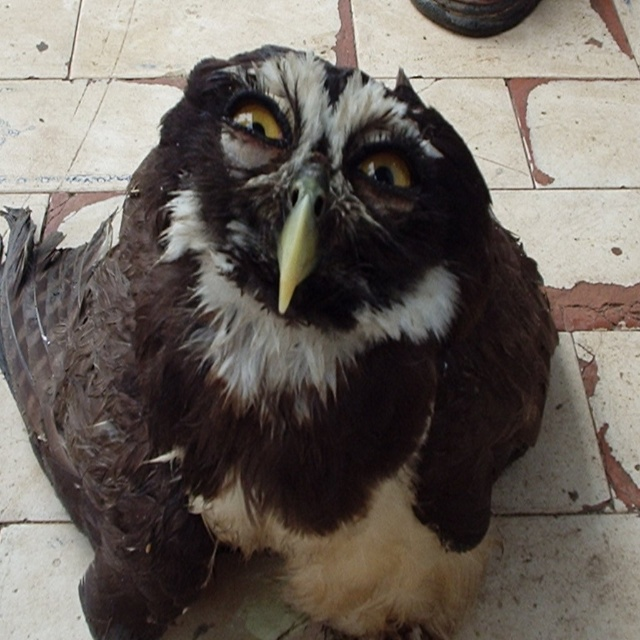Owl: (0, 37, 560, 639)
